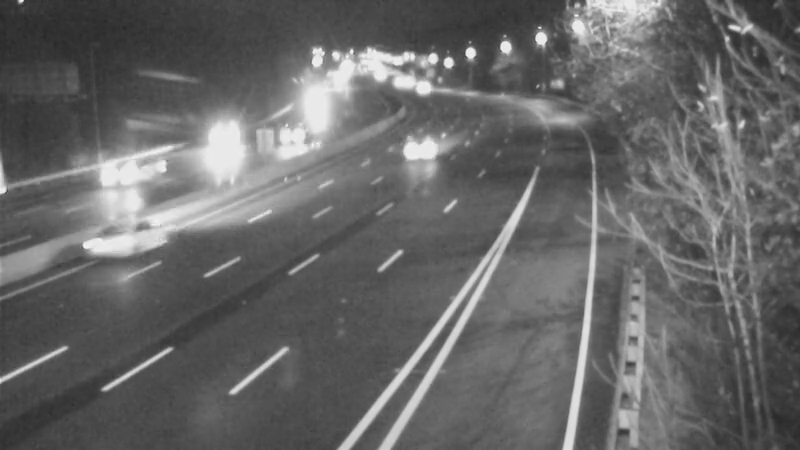vehicle: (97, 201, 177, 281), (82, 132, 162, 212), (397, 63, 447, 113), (394, 123, 444, 173), (198, 111, 248, 161), (270, 113, 320, 163), (293, 81, 343, 131)
